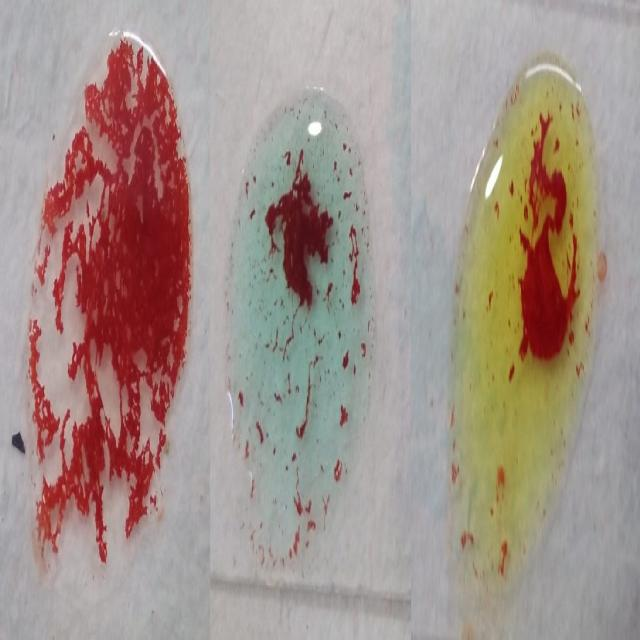A: (224, 80, 372, 572)
B: (450, 57, 599, 603)
D: (29, 23, 188, 590)
